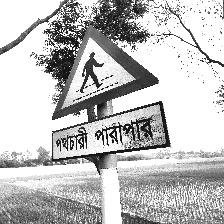Pedestrian-crossing: (50, 25, 169, 165)
